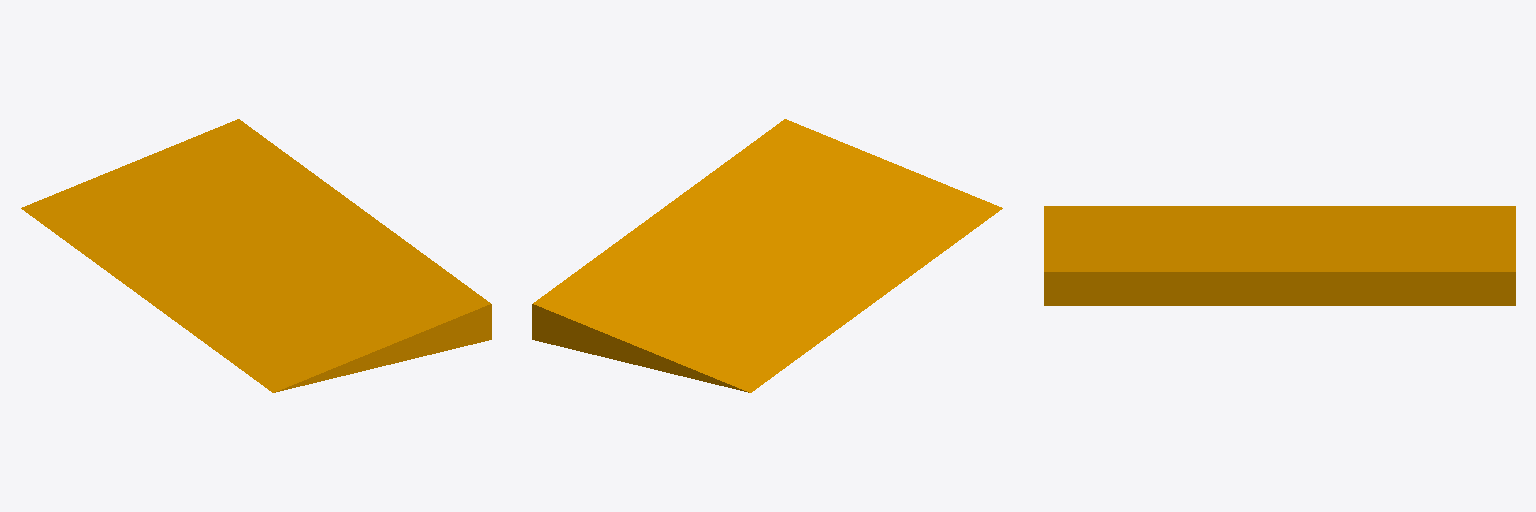
The robot description file, URDF, robot "wedge_9":
<?xml version="1.0" ?>
<robot name="wedge_9">
  <link name="wedge_9__link_1">
    <inertial>
      <mass value="1"/>
      <origin rpy="0      0     -1.5708" xyz="0 0 0"/>
      <inertia ixx="0.166667" ixy="0" ixz="0" iyy="0.166667" iyz="0" izz="0.166667"/>
    </inertial>
    <collision name="wedge_9__collision">
      <origin rpy="0      0     -1.5708" xyz="0 0 0"/>
      <geometry>
        <mesh filename="package://wedge_9/wedge_9.stl" scale="1 1 1"/>
      </geometry>
    </collision>
    <visual name="wedge_9__visual">
      <origin rpy="0      0     -1.5708" xyz="0 0 0"/>
      <geometry>
        <mesh filename="package://wedge_9/wedge_9.stl" scale="1 1 1"/>
      </geometry>
    </visual>
  </link>
</robot>

--- Facts derived from the render (not from the file) ---
3 views of the same robot in one strip: view 1: azimuth 30°, elevation 25°; view 2: azimuth 150°, elevation 25°; view 3: azimuth 270°, elevation 25° (orthographic).
Robot: wedge_9 — 1 links, 0 joints (none); root link wedge_9__link_1; default pose: all joints at 0.
Links seen in each view (by area): view 1: wedge_9__link_1; view 2: wedge_9__link_1; view 3: wedge_9__link_1.
Link boxes in pixels (x1,y1,x2,y2): wedge_9__link_1: [21, 119, 491, 392]; wedge_9__link_1: [532, 119, 1002, 392]; wedge_9__link_1: [1044, 206, 1515, 305].
Bounding box of the posed robot: 1.5 × 3.01 × 0.2369 m (x, y, z).
1 mesh visuals loaded from 1 distinct referenced files (1 binary STL).